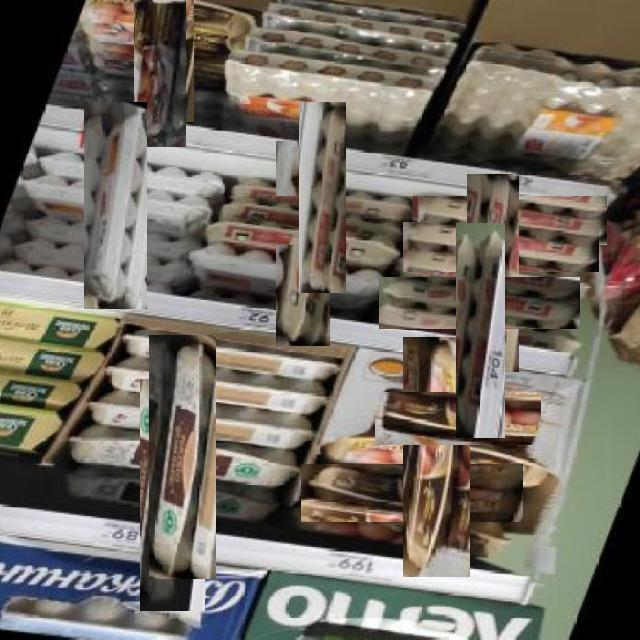Egg: (148, 335, 216, 579), (403, 337, 470, 577), (287, 495, 520, 561), (140, 379, 205, 611), (84, 102, 147, 309), (301, 464, 523, 522), (275, 142, 330, 346), (379, 276, 580, 329), (456, 223, 505, 438), (467, 174, 519, 372), (403, 221, 599, 272), (411, 195, 607, 245), (214, 197, 411, 245), (299, 102, 346, 293), (374, 392, 541, 445), (134, 0, 186, 147), (136, 0, 194, 122)
